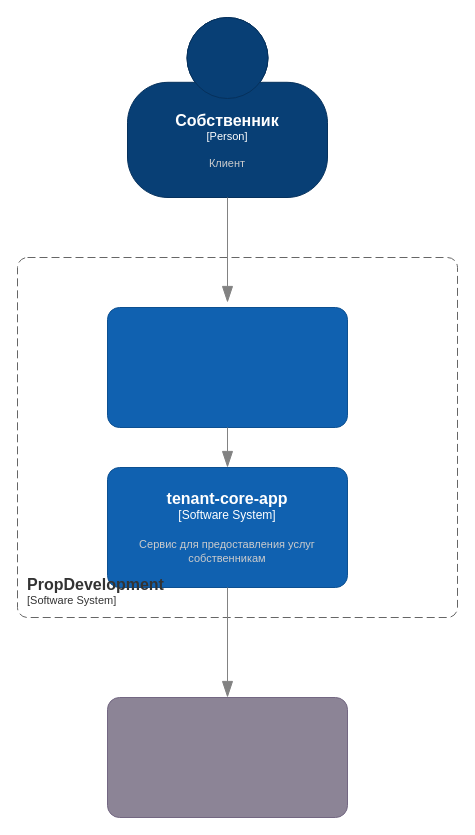
The diagram is 475 pixels wide and 835 high, and some of its shapes have lost their labels. The centre of each missing label's shape, as x and y in pixels:
PropDevelopment Mobile App [Software System] Мобильное приложение: [227,367]
Система "Умный дом" [Software System] Интеллектуальный домофон и шлагбаум: [227,757]
